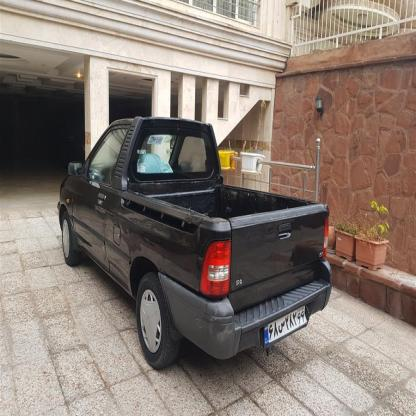Car: (55, 109, 334, 372)
